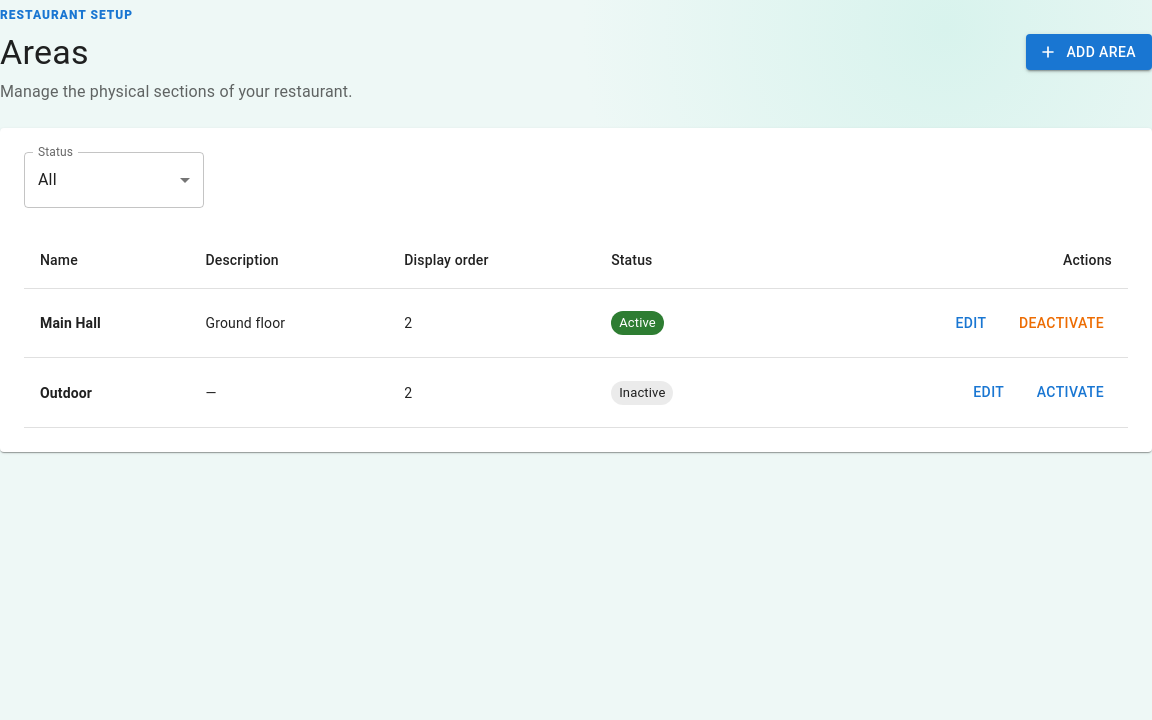
Test case: Area management › keeps the edit form open when saving fails
Click the button with aria-label "Edit Main Hall": (971, 323) [939,305,1003,341]
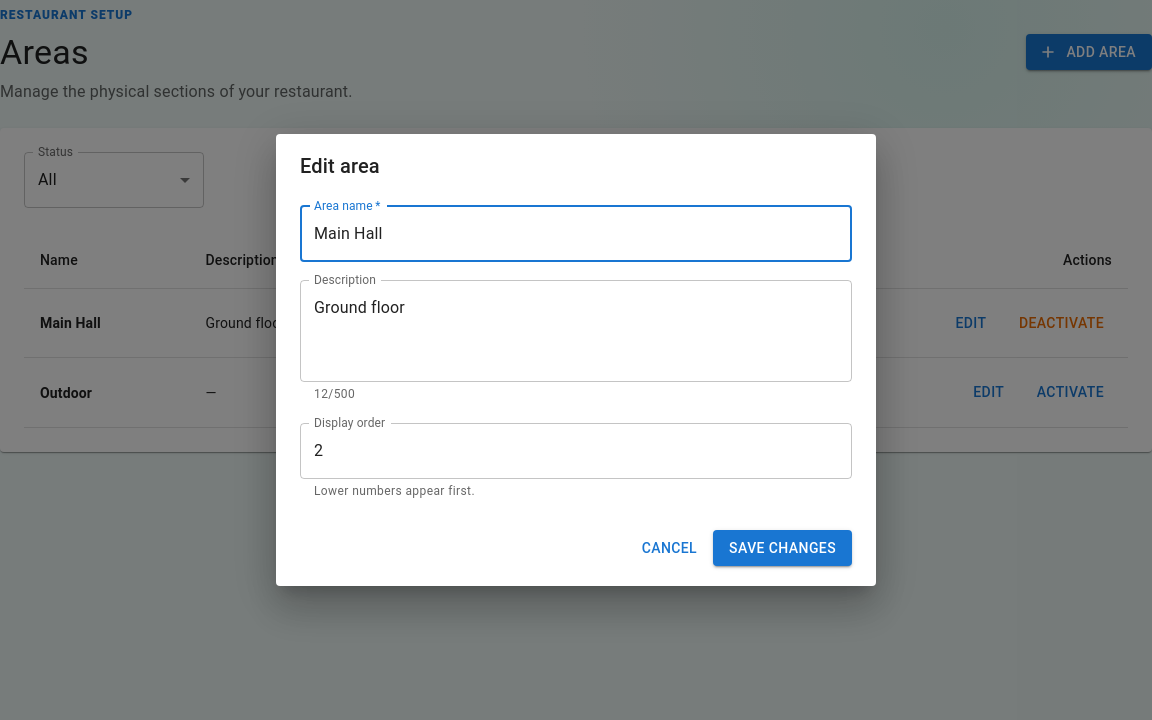
Click the button "Save changes": (783, 548) [713,530,852,566]
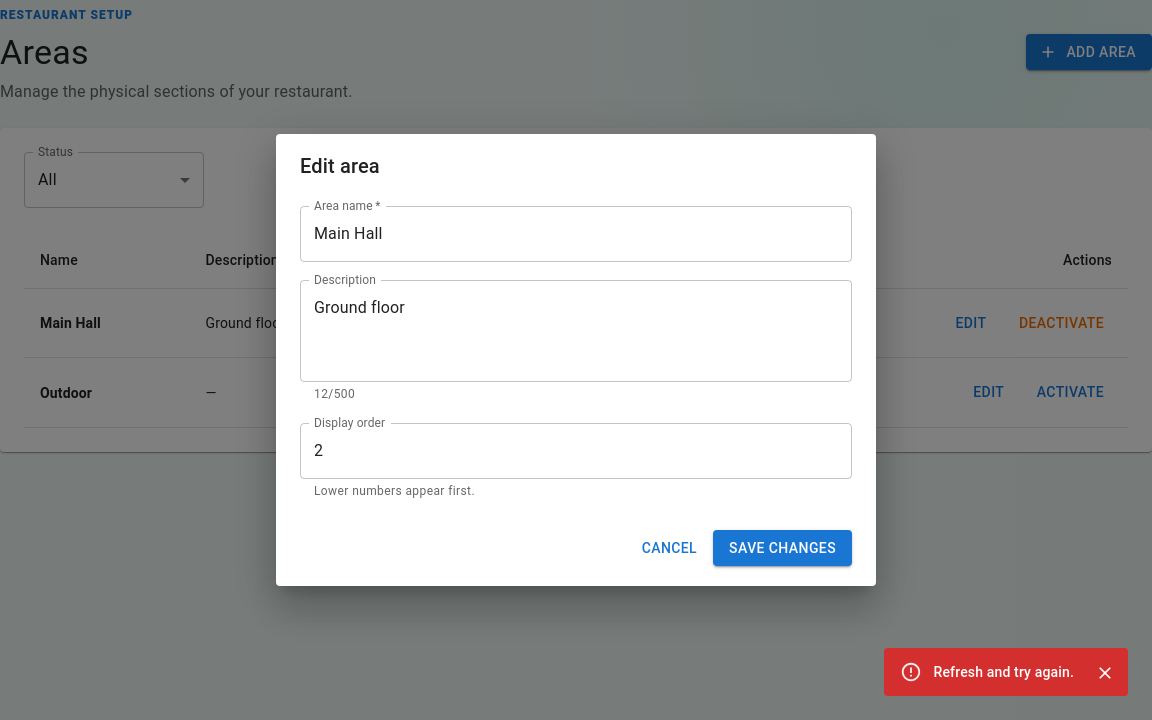
Now the dialog is shown, box [276,134,876,586]
Now the text "Refresh and try again." is shown, box [934,664,1074,680]
